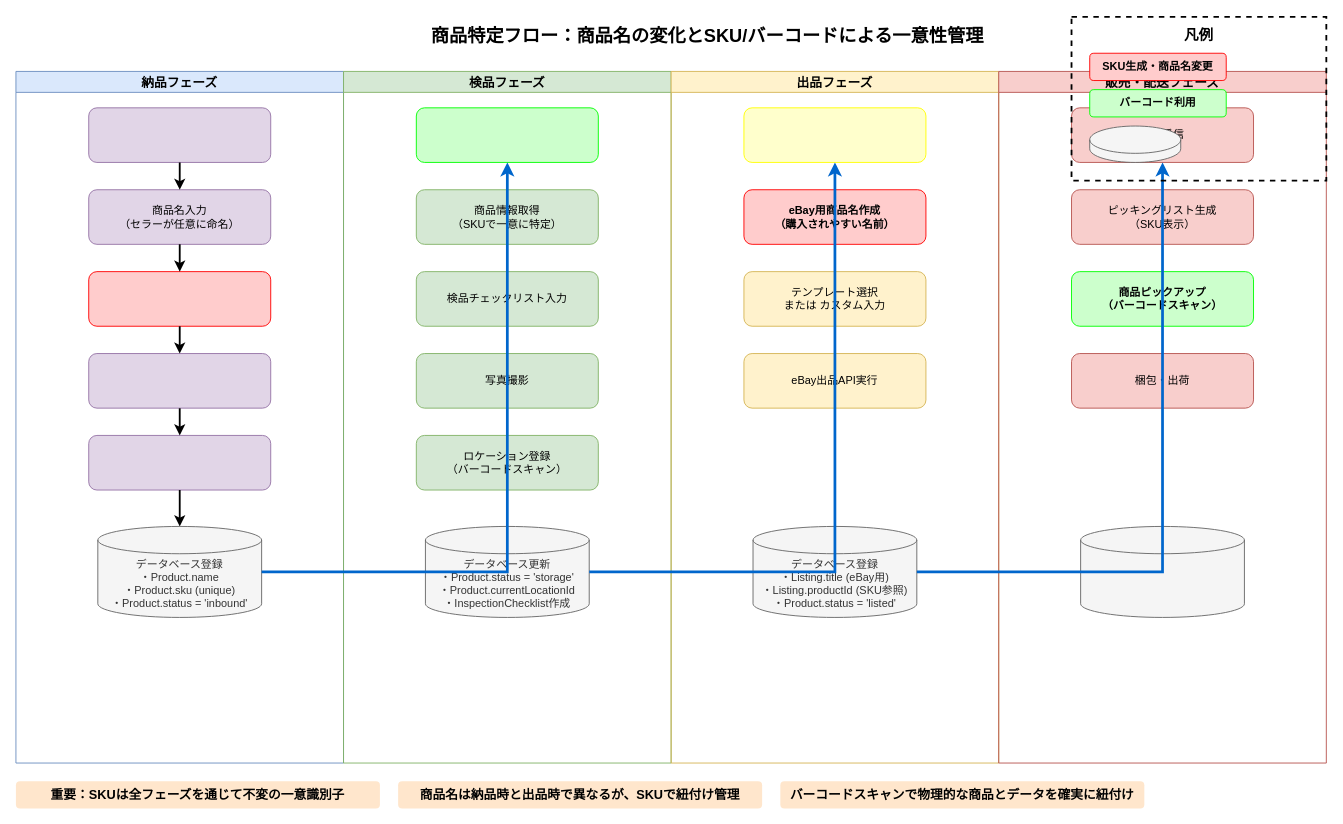
The diagram is 1343 pixels wide and 824 high, and some of its shapes have lost their labels. Each missing label, with the centre of its shape:
"SKU自動生成 TWD-YYYYMMDD-XXXXX" goes at point 179,298.
"データベース" goes at point 1135,143.
"データベース更新 ・Product.status = 'shipped' ・Order.status = 'shipped'" goes at point 1162,571.
"バーコードPDF生成" goes at point 179,380.
"バーコードスキャン または SKU手入力" goes at point 506,134.
"バーコードラベル貼付" goes at point 179,462.
"商品受取" goes at point 179,134.
"商品選択 （SKUベース）" goes at point 834,134.
